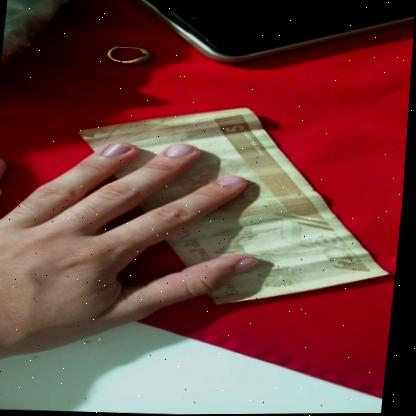five-back-vef: (64, 101, 408, 312)
